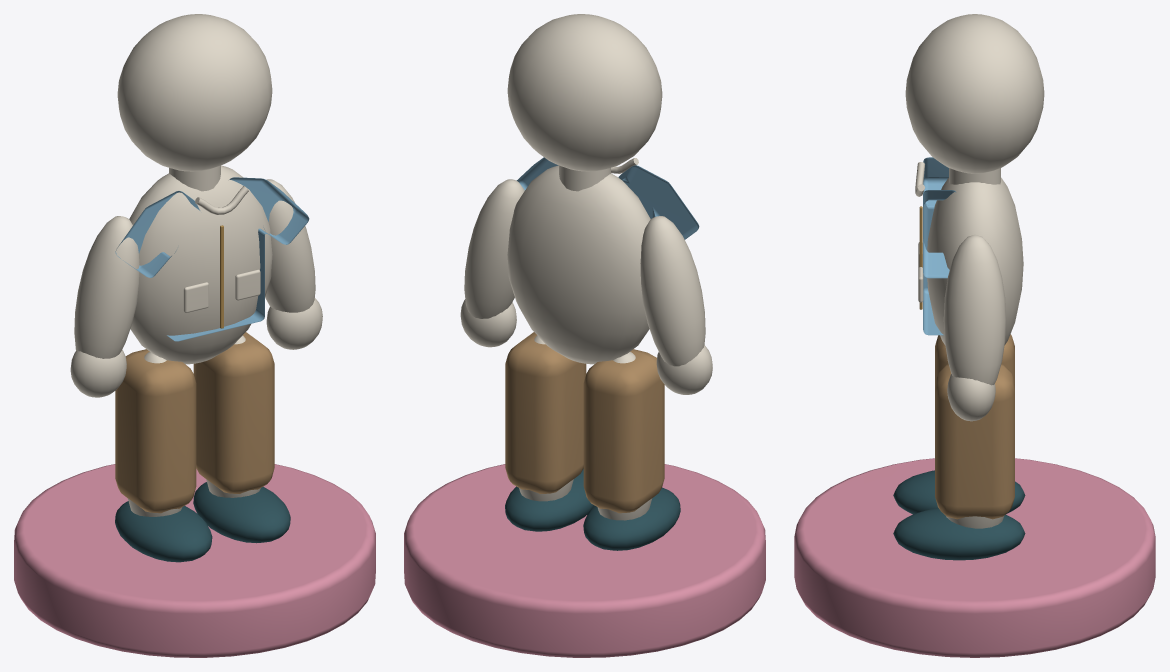
Rendered from cl_mannequin.glb.
3 views of the same model, side by side, from view 1: azimuth 30°, elevation 25°; view 2: azimuth 150°, elevation 25°; view 3: azimuth 270°, elevation 25° (orthographic).
Parts seen in each view (by area): view 1: prop; view 2: prop; view 3: prop.
Boxes of the visible parts, x1=… form: prop: x1=14, y1=14, x2=375, y2=657; prop: x1=404, y1=14, x2=765, y2=657; prop: x1=794, y1=14, x2=1155, y2=657.
Size of the model in its own units: 1.04 by 1.79 by 1.04.
